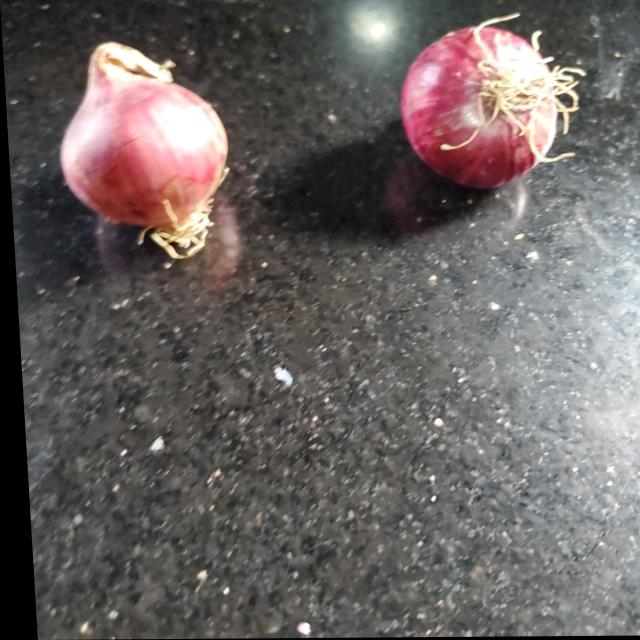onion: (57, 44, 235, 256), (396, 23, 561, 188)
